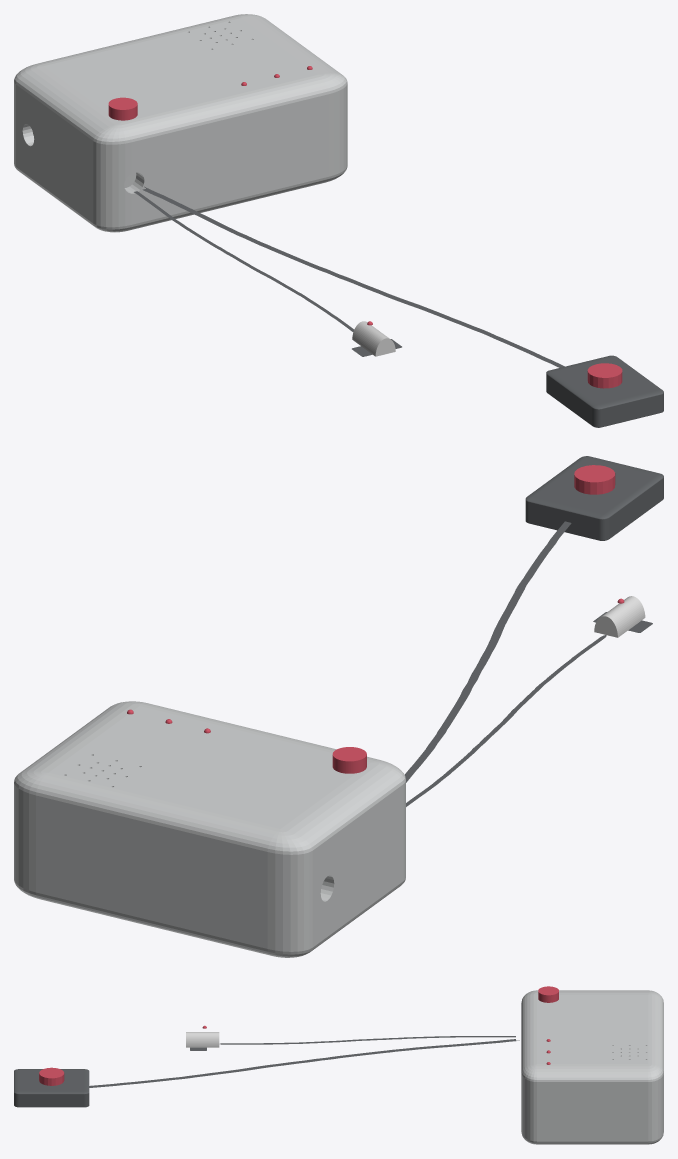
Rendered from 01-MainBox.glb.
3 renders of one model, top to bottom at view 1: azimuth 30°, elevation 25°; view 2: azimuth 150°, elevation 25°; view 3: azimuth 270°, elevation 25°, orthographic. The views are drawn at different scales.
Visible parts, largest first — view 1: Mesh_Mesh_head_geo.001_lambert2SG.001; view 2: Mesh_Mesh_head_geo.001_lambert2SG.001; view 3: Mesh_Mesh_head_geo.001_lambert2SG.001.
Boxes of the visible parts, x1,y1,x2,y2 form: Mesh_Mesh_head_geo.001_lambert2SG.001: (14,14,663,427); Mesh_Mesh_head_geo.001_lambert2SG.001: (14,456,663,957); Mesh_Mesh_head_geo.001_lambert2SG.001: (14,986,663,1144).
Bounding box in the file's own units: 25 × 11 × 77.5.
